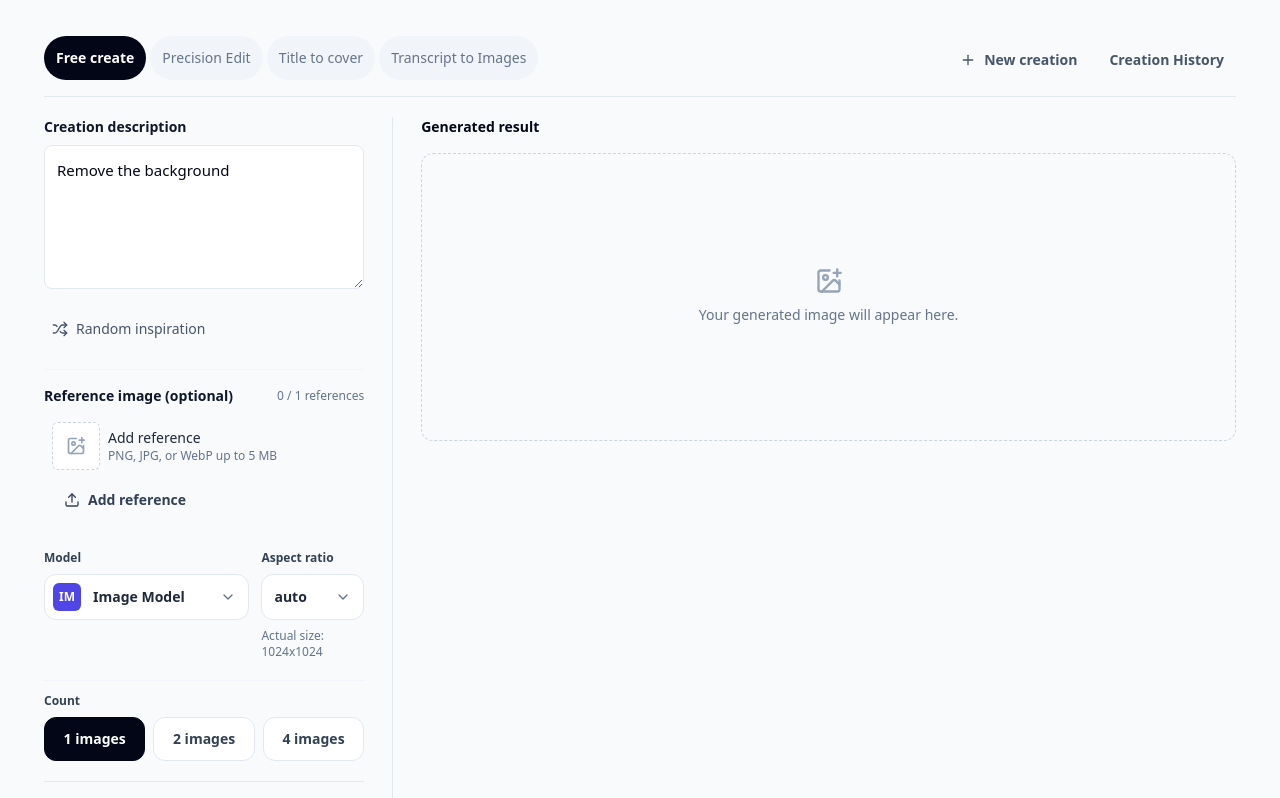
Test: image workspace UI › activates Precision Edit and blocks submission without a source image
The image size is (1280, 798).
Click the tab "Precision Edit": (206, 58) [150, 36, 263, 80]
(page scrolled)
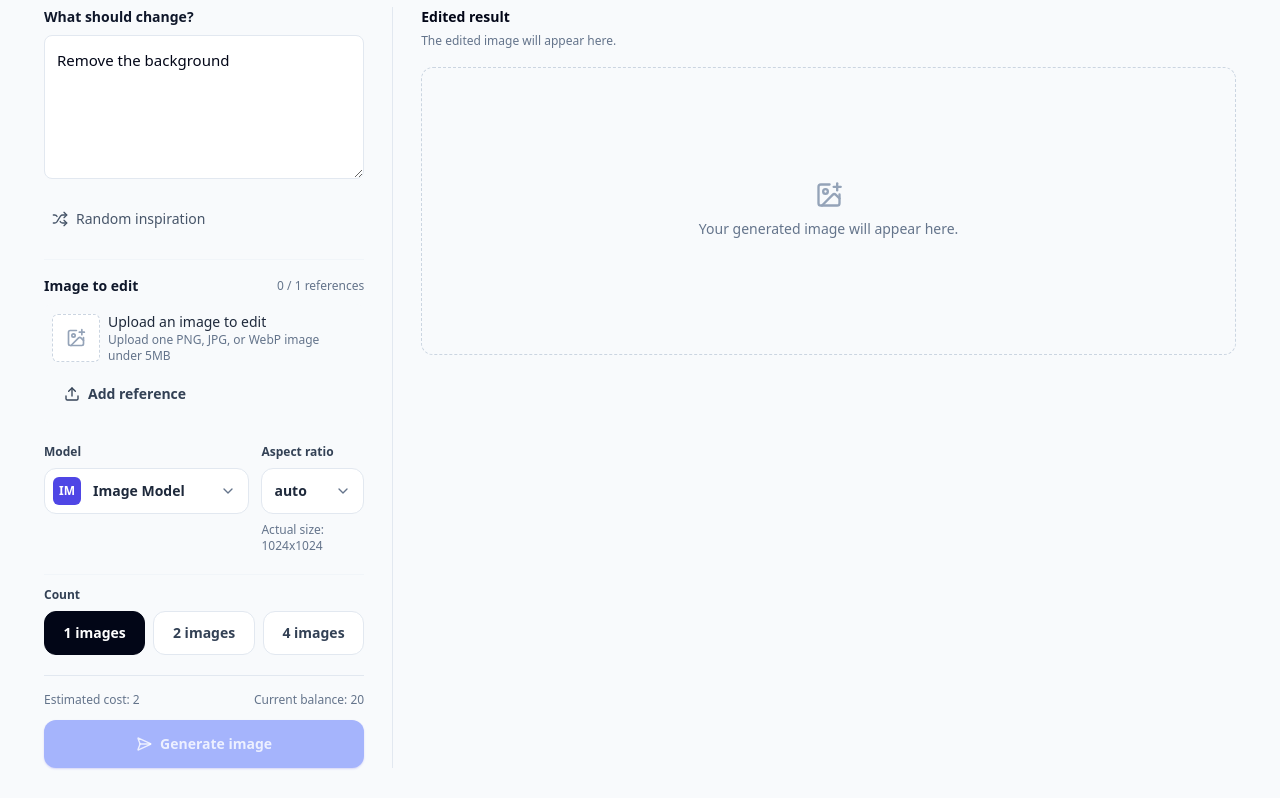
Expected: the element that starts with "Upload an image to edit" is shown, [44, 304, 364, 424]
Expected: the button "Generate image" is disabled, [44, 720, 364, 768]
Expected: the text "Upload an image to edit" is shown, [108, 312, 266, 331]
